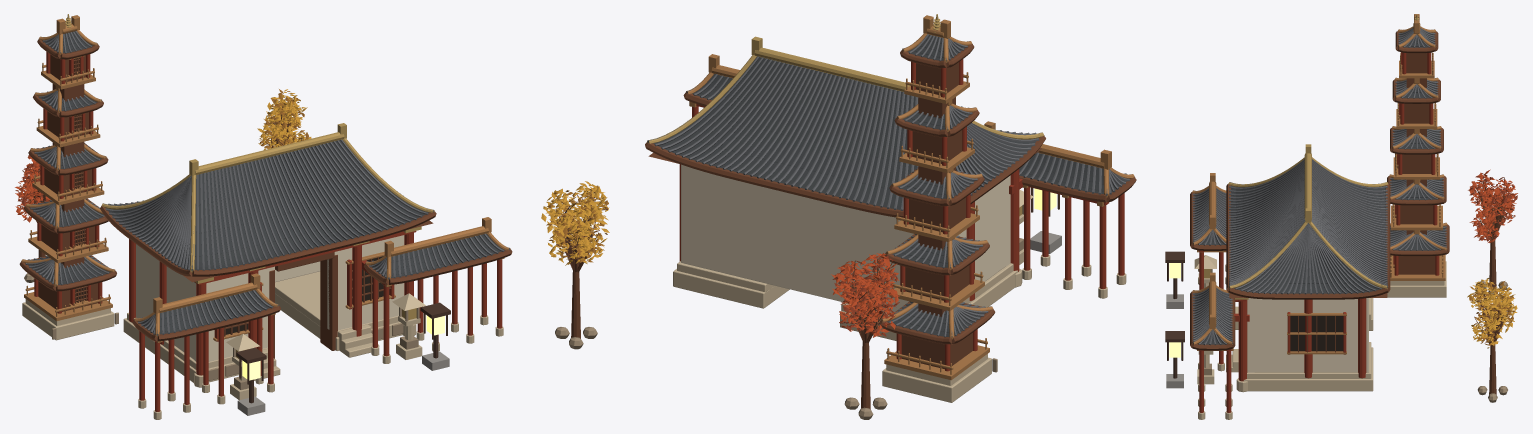
File: heijokyo.glb
3 views of the same model, side by side, from view 1: azimuth 30°, elevation 25°; view 2: azimuth 150°, elevation 25°; view 3: azimuth 270°, elevation 25° (orthographic). The views are drawn at different scales.
Visible parts, largest first — view 1: heijokyo__B03R2_heijokyo_TileEdge, heijokyo__B03R2_heijokyo_Roof, heijokyo__B03R2_heijokyo_Wood, heijokyo__B03R2_heijokyo_Vermilion, heijokyo__B03R2_heijokyo_Stone, heijokyo__B03R2_heijokyo_WoodLight, heijokyo__B03R2_heijokyo_Plaster, heijokyo__B03R2_heijokyo_Gold, heijokyo__B03R2_heijokyo_LeafGold, heijokyo__WarmMini_wooddark, heijokyo__B03R2_heijokyo_StoneShade, heijokyo__WarmMini_stone (+4 smaller); view 2: heijokyo__B03R2_heijokyo_TileEdge, heijokyo__B03R2_heijokyo_Plaster, heijokyo__B03R2_heijokyo_Roof, heijokyo__B03R2_heijokyo_Wood, heijokyo__B03R2_heijokyo_WoodLight, heijokyo__B03R2_heijokyo_Stone, heijokyo__B03R2_heijokyo_Vermilion, heijokyo__B03R2_heijokyo_LeafGold, heijokyo__B03R2_heijokyo_LeafRed, heijokyo__B03R2_heijokyo_Gold, heijokyo__B03R2_heijokyo_LeafRedShade, heijokyo__B03R2_heijokyo_LeafGoldShade (+1 smaller); view 3: heijokyo__B03R2_heijokyo_TileEdge, heijokyo__B03R2_heijokyo_Wood, heijokyo__B03R2_heijokyo_WoodLight, heijokyo__B03R2_heijokyo_Plaster, heijokyo__B03R2_heijokyo_Roof, heijokyo__B03R2_heijokyo_Stone, heijokyo__B03R2_heijokyo_Vermilion, heijokyo__B03R2_heijokyo_Gold, heijokyo__B03R2_heijokyo_LeafRed, heijokyo__B03R2_heijokyo_LeafGold, heijokyo__B03R2_heijokyo_Dark, heijokyo__WarmMini_wooddark (+5 smaller).
Boxes of the visible parts, x1,y1,x2,y2 form: heijokyo__B03R2_heijokyo_TileEdge: (23, 31, 509, 335); heijokyo__B03R2_heijokyo_Roof: (28, 31, 504, 334); heijokyo__B03R2_heijokyo_Wood: (19, 39, 512, 358); heijokyo__B03R2_heijokyo_Vermilion: (34, 52, 502, 411); heijokyo__B03R2_heijokyo_Stone: (22, 271, 503, 419); heijokyo__B03R2_heijokyo_WoodLight: (21, 15, 510, 342); heijokyo__B03R2_heijokyo_Plaster: (136, 235, 404, 361); heijokyo__B03R2_heijokyo_Gold: (65, 14, 434, 358); heijokyo__B03R2_heijokyo_LeafGold: (257, 89, 311, 149); heijokyo__WarmMini_wooddark: (236, 302, 450, 403); heijokyo__B03R2_heijokyo_StoneShade: (24, 273, 419, 389); heijokyo__WarmMini_stone: (237, 351, 449, 415); heijokyo__B03R2_heijokyo_TileEdge: (647, 34, 1132, 337); heijokyo__B03R2_heijokyo_Plaster: (681, 164, 1010, 312); heijokyo__B03R2_heijokyo_Roof: (648, 35, 1126, 336); heijokyo__B03R2_heijokyo_Wood: (550, 44, 1136, 409); heijokyo__B03R2_heijokyo_WoodLight: (686, 15, 1134, 380); heijokyo__B03R2_heijokyo_Stone: (673, 189, 1126, 402); heijokyo__B03R2_heijokyo_Vermilion: (679, 59, 1124, 371); heijokyo__B03R2_heijokyo_LeafGold: (541, 181, 609, 265); heijokyo__B03R2_heijokyo_LeafRed: (831, 253, 899, 337); heijokyo__B03R2_heijokyo_Gold: (647, 14, 1043, 216); heijokyo__B03R2_heijokyo_LeafRedShade: (832, 256, 899, 336); heijokyo__B03R2_heijokyo_LeafGoldShade: (546, 185, 608, 264); heijokyo__B03R2_heijokyo_TileEdge: (1192, 28, 1446, 345); heijokyo__B03R2_heijokyo_Wood: (1190, 31, 1514, 394); heijokyo__B03R2_heijokyo_WoodLight: (1192, 14, 1447, 354); heijokyo__B03R2_heijokyo_Plaster: (1247, 298, 1368, 372); heijokyo__B03R2_heijokyo_Roof: (1194, 32, 1445, 344); heijokyo__B03R2_heijokyo_Stone: (1194, 255, 1446, 419); heijokyo__B03R2_heijokyo_Vermilion: (1199, 52, 1439, 412); heijokyo__B03R2_heijokyo_Gold: (1204, 14, 1419, 299); heijokyo__B03R2_heijokyo_LeafRed: (1468, 169, 1517, 242); heijokyo__B03R2_heijokyo_LeafGold: (1467, 278, 1517, 348); heijokyo__B03R2_heijokyo_Dark: (1290, 316, 1343, 351); heijokyo__WarmMini_wooddark: (1165, 251, 1184, 378).
Bounding box in the file's own units: 4.27 × 3.5 × 4.14.
